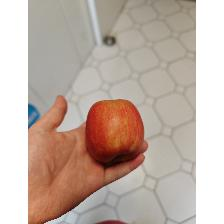Apfel: (84, 98, 146, 168)
